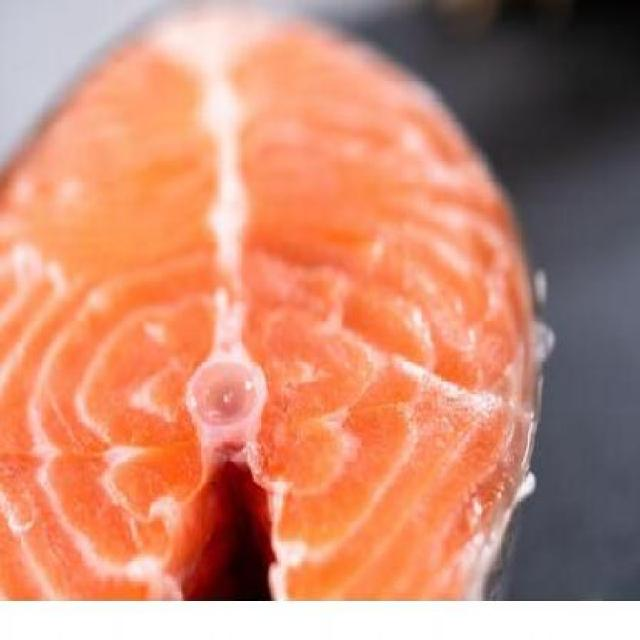salmon: (2, 12, 556, 602)
